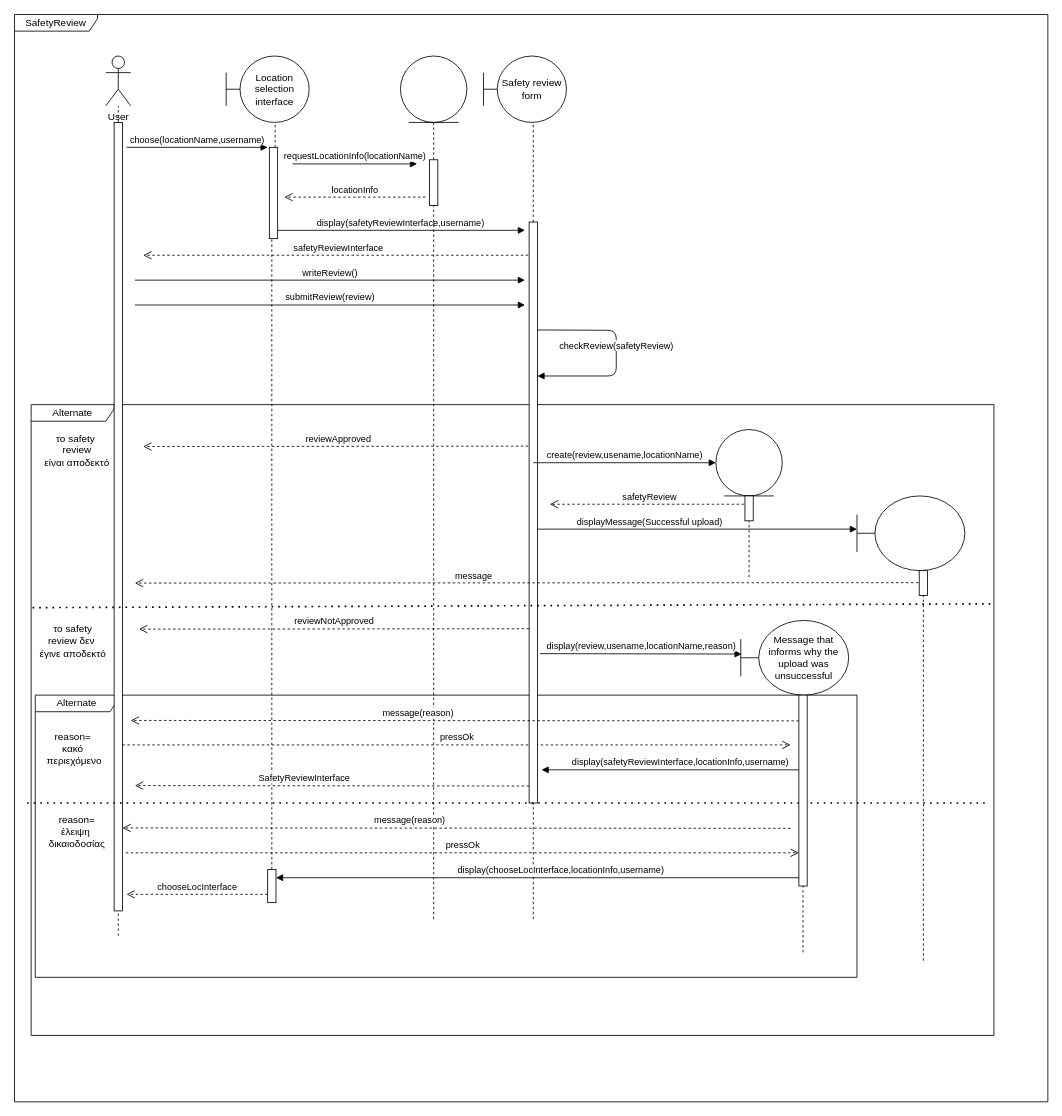
The diagram is 1062 pixels wide and 1116 high, and some of its shapes have lost their labels. The centre of each missing label's shape, as x and y in pixels:
"Location" belongs at point (433, 88).
"Message of successful upload" belongs at point (910, 533).
"Safety review" belongs at point (748, 462).
